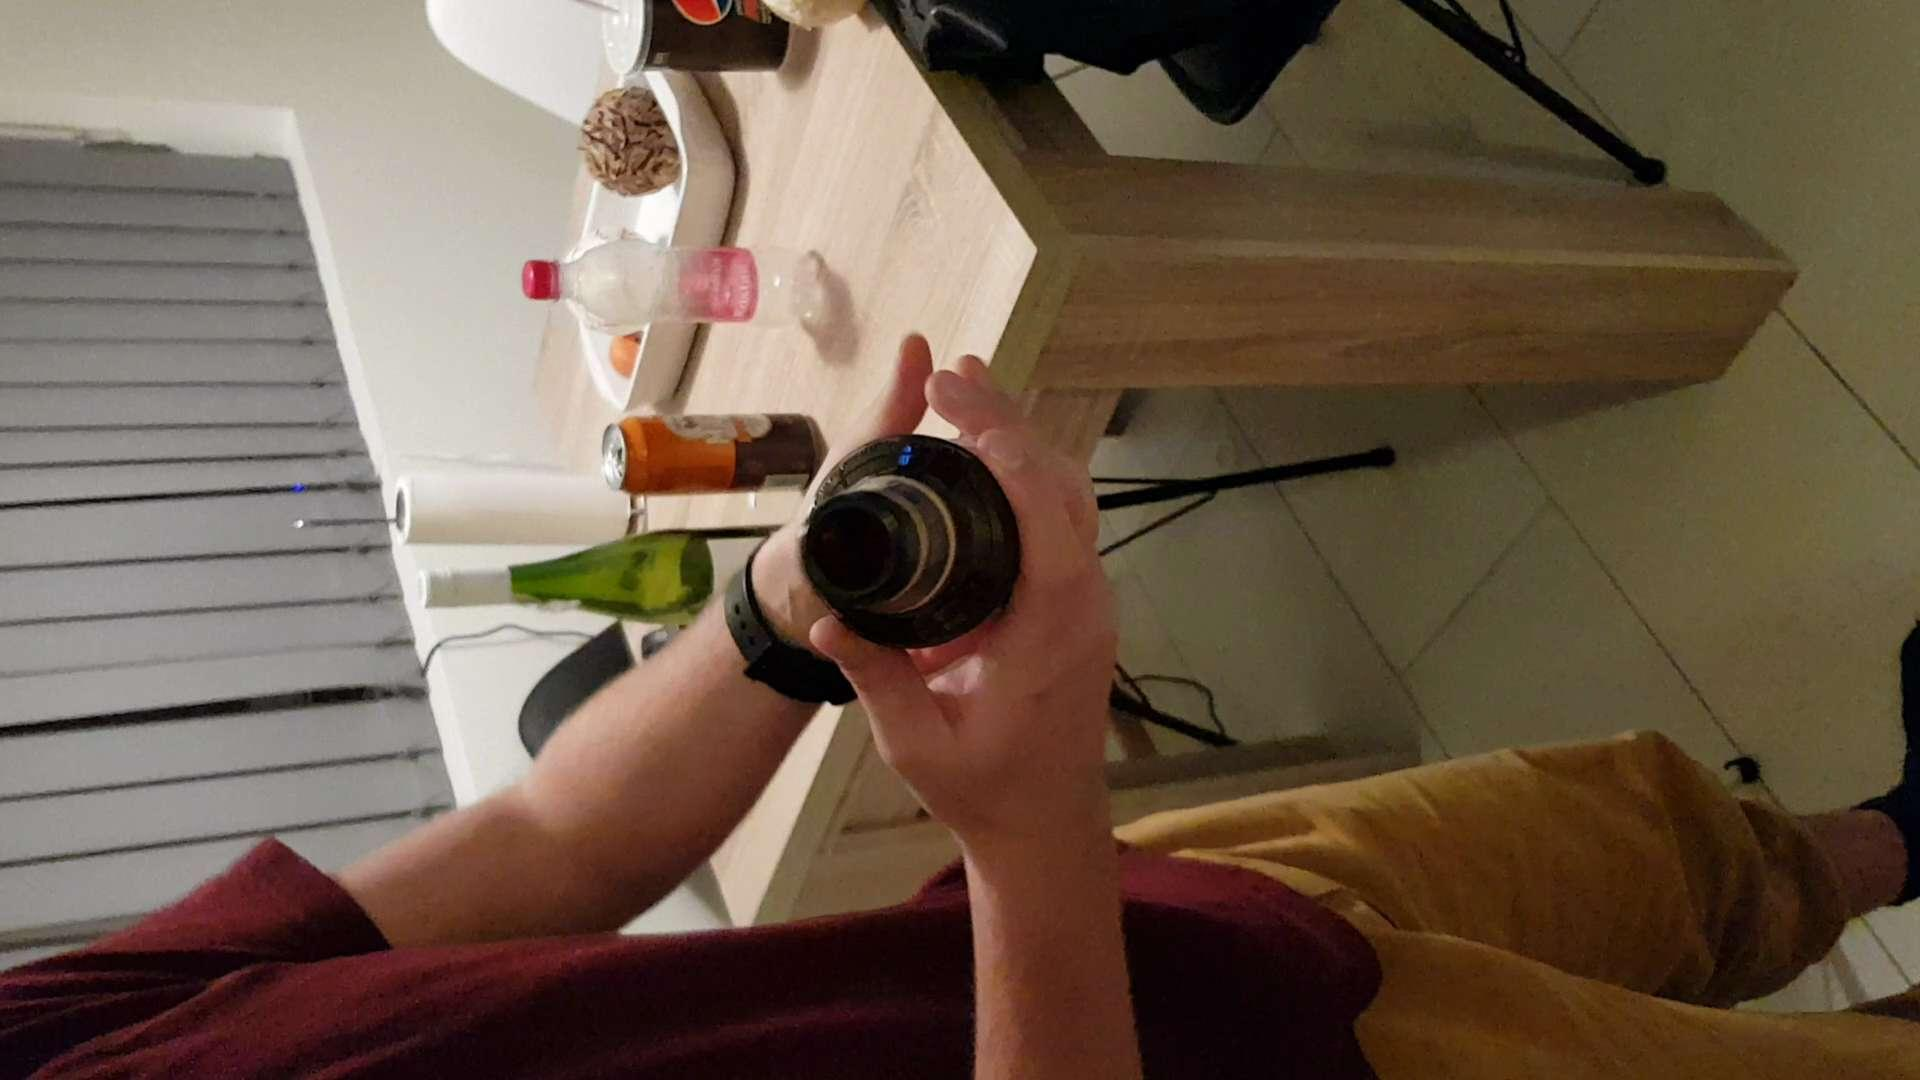Bottle: (789, 415, 1025, 645), (406, 520, 793, 632), (495, 233, 831, 336)
Can: (601, 405, 819, 496)
Sphere: (576, 84, 694, 179)
